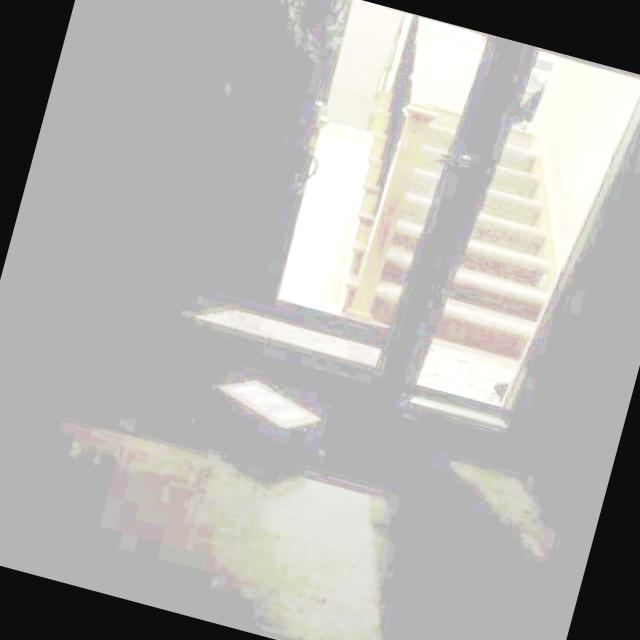Box: (204, 370, 328, 472)
